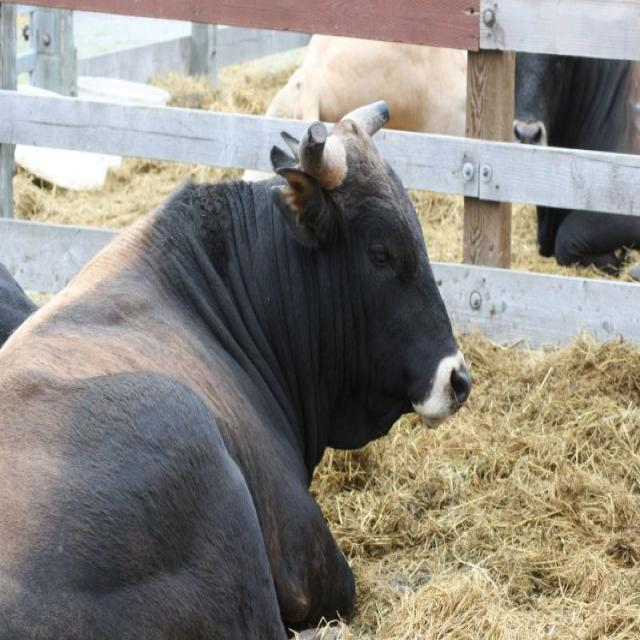cow: (0, 103, 470, 637)
